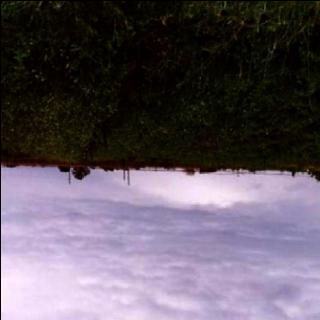Stratocumulus: (0, 159, 320, 320)
